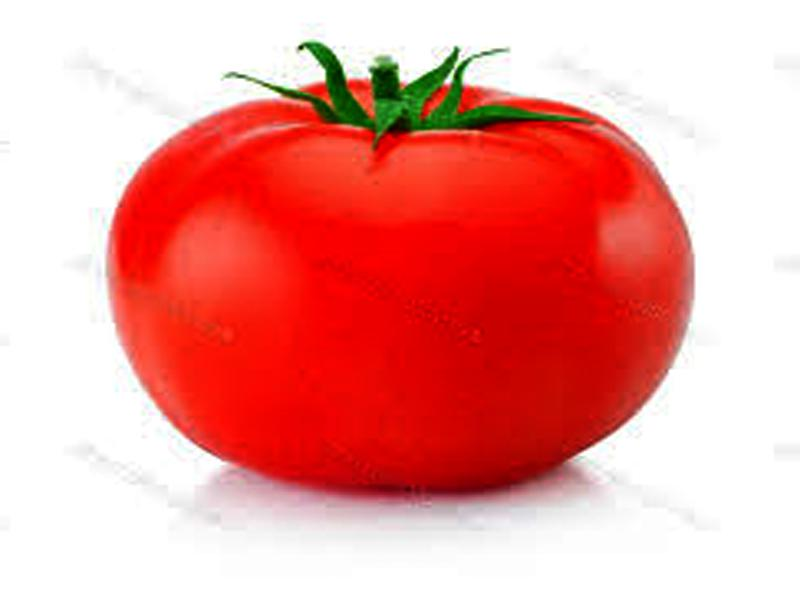Tomato: (108, 81, 694, 479)
